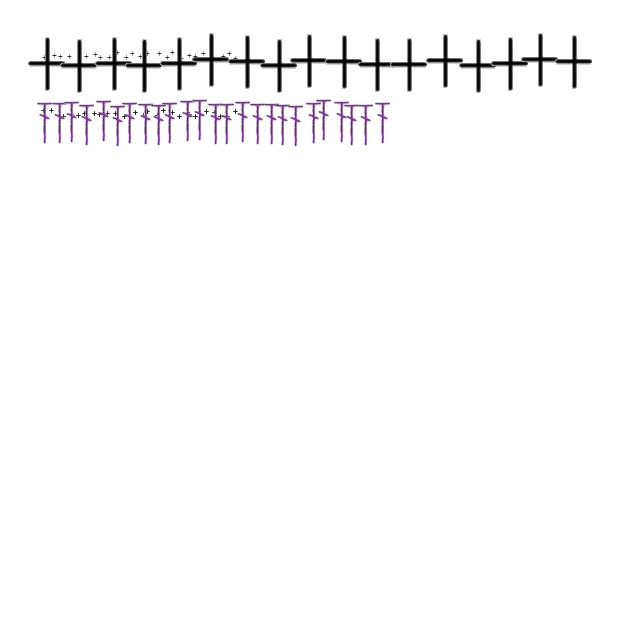double: (287, 34, 329, 90), (355, 38, 397, 94), (387, 38, 429, 94), (423, 34, 465, 90), (25, 38, 67, 92), (57, 40, 99, 94), (92, 38, 134, 92), (122, 40, 164, 94), (157, 38, 199, 92), (189, 34, 231, 88), (225, 36, 267, 90), (257, 40, 299, 94), (322, 36, 364, 90), (456, 40, 498, 94), (488, 38, 530, 92), (518, 34, 560, 88), (552, 36, 594, 90), (58, 54, 64, 60), (84, 54, 90, 60), (138, 54, 144, 60), (170, 50, 176, 56), (122, 114, 128, 120), (170, 110, 176, 116), (212, 110, 218, 116), (218, 114, 224, 120), (42, 56, 48, 60), (52, 54, 58, 58), (68, 54, 72, 60), (78, 50, 82, 56), (94, 52, 98, 58), (98, 56, 104, 60), (116, 50, 120, 56), (124, 56, 130, 60), (130, 52, 136, 56), (180, 56, 184, 62), (194, 54, 198, 60), (210, 54, 214, 60), (222, 54, 226, 60), (234, 56, 238, 62), (42, 108, 46, 114), (50, 108, 54, 114), (62, 114, 66, 120), (70, 112, 74, 118), (76, 114, 82, 118), (82, 112, 88, 116), (92, 112, 98, 116), (98, 112, 102, 118), (134, 110, 138, 116), (162, 108, 166, 114), (178, 114, 182, 120), (188, 112, 192, 118), (194, 114, 198, 120), (204, 110, 210, 114), (226, 114, 230, 120), (108, 56, 112, 60), (146, 52, 150, 56), (158, 52, 162, 56), (166, 56, 170, 60), (188, 54, 192, 58), (202, 52, 206, 56), (228, 52, 232, 56), (106, 112, 110, 116), (114, 112, 118, 116), (142, 114, 146, 118), (146, 110, 150, 114), (156, 114, 160, 118), (234, 110, 238, 114)
double treble: (52, 100, 68, 144), (64, 99, 80, 143), (96, 98, 112, 142), (110, 103, 126, 147), (122, 100, 138, 144), (138, 101, 154, 145), (162, 100, 178, 144), (180, 98, 196, 142), (192, 97, 208, 141), (208, 101, 224, 145), (250, 101, 266, 145), (264, 101, 280, 145), (288, 103, 304, 147), (306, 100, 322, 144), (316, 97, 332, 141), (334, 99, 350, 143), (344, 102, 360, 146), (358, 102, 374, 146), (38, 100, 52, 144), (80, 102, 94, 146), (152, 102, 166, 146), (220, 101, 234, 145), (236, 99, 250, 143), (276, 102, 290, 146), (376, 100, 390, 144)
